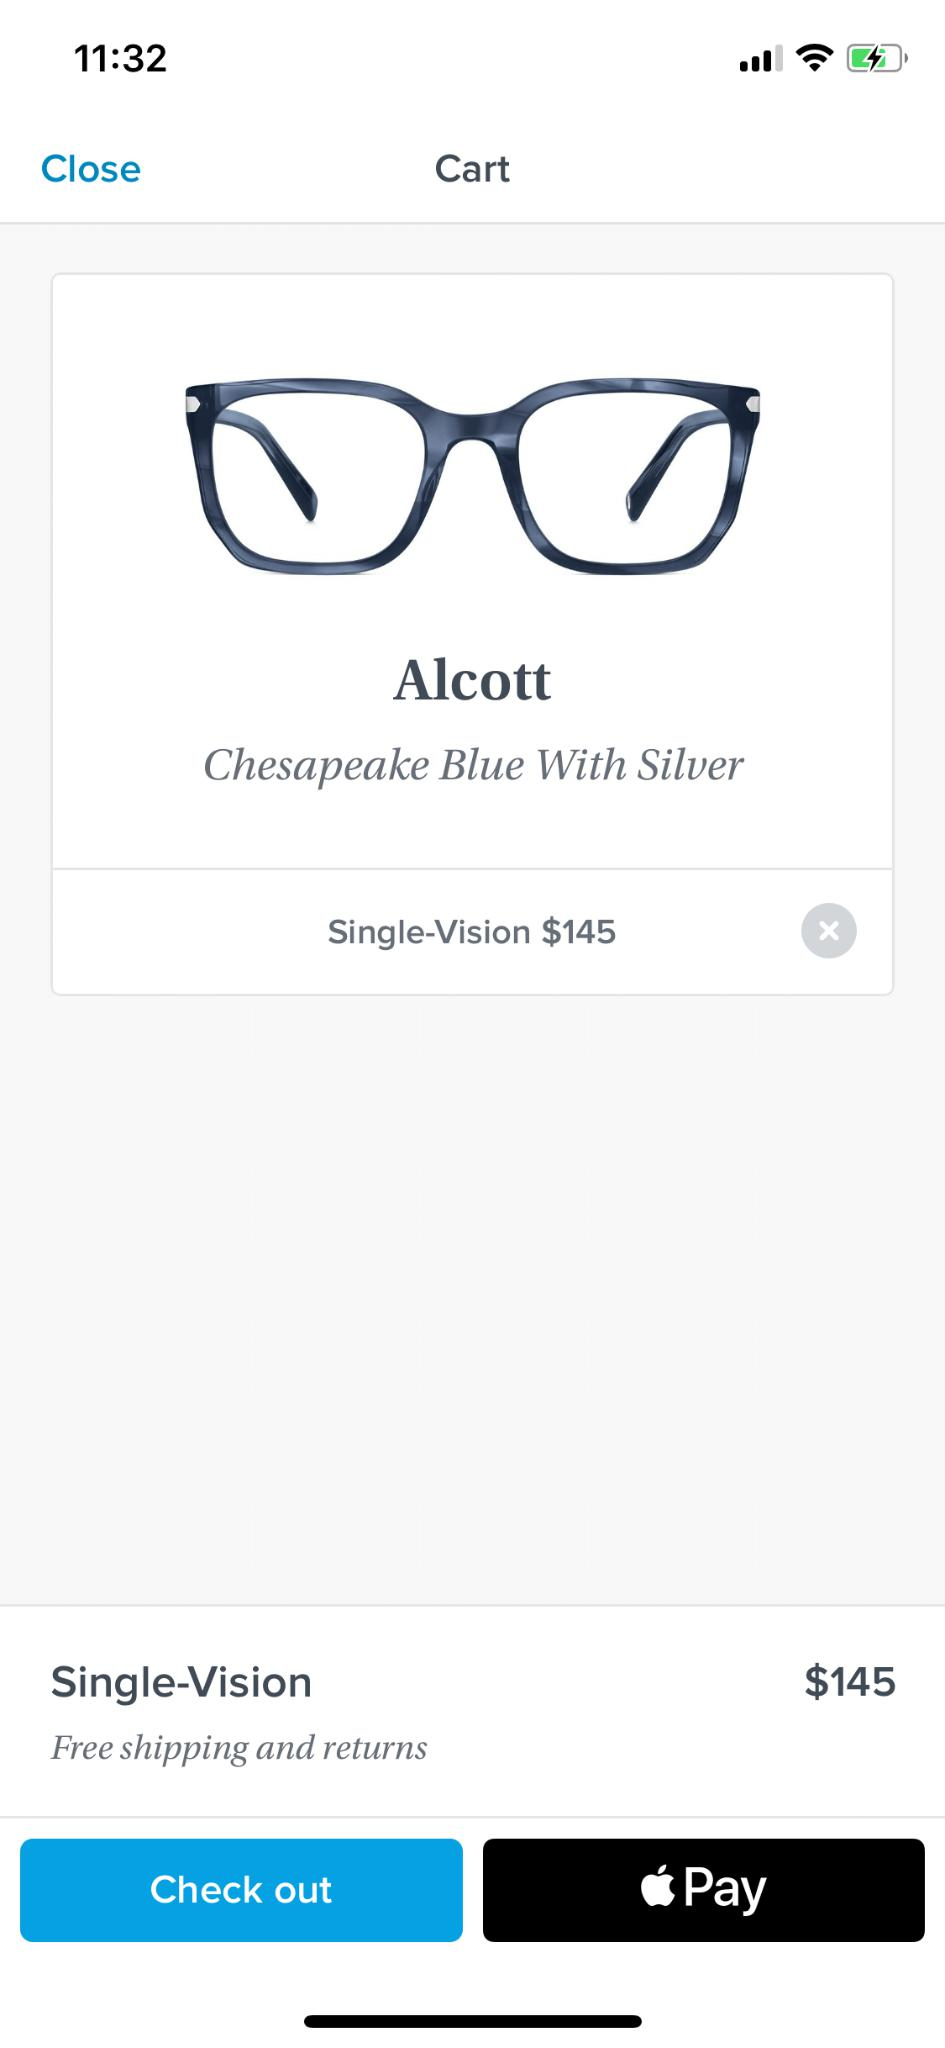Buttons: (17, 1832, 465, 1960), (478, 1831, 933, 1954), (23, 133, 161, 206), (795, 895, 859, 964)
